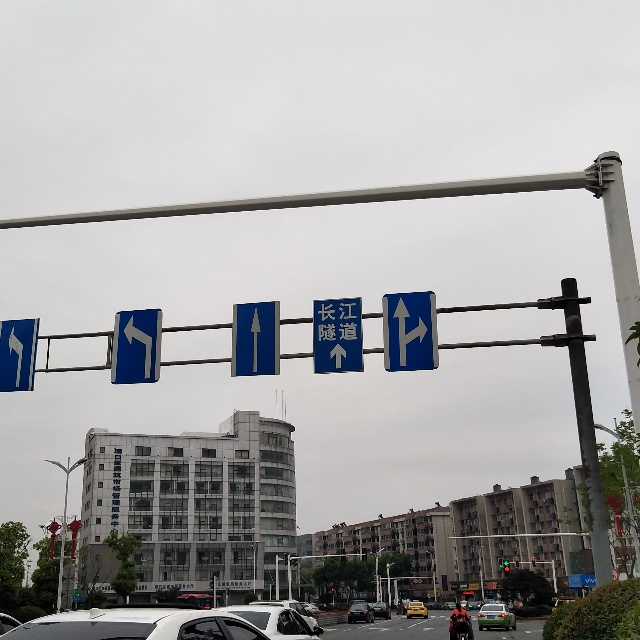left: (111, 308, 162, 385), (1, 318, 40, 391)
straight: (231, 301, 281, 378)
